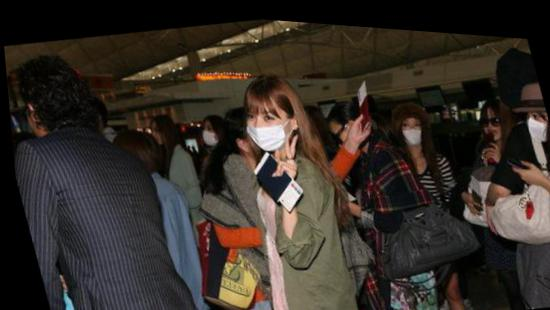NONE: (477, 106, 504, 137), (146, 122, 164, 145)
OK: (522, 102, 550, 139), (397, 112, 425, 141), (197, 120, 220, 146)
WRONG: (237, 95, 292, 150)
